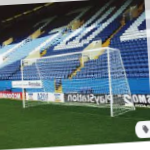goals: (19, 46, 134, 118)
